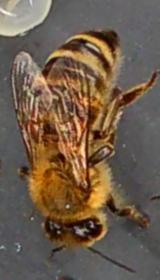varroa_mite: (22, 112, 44, 140)
